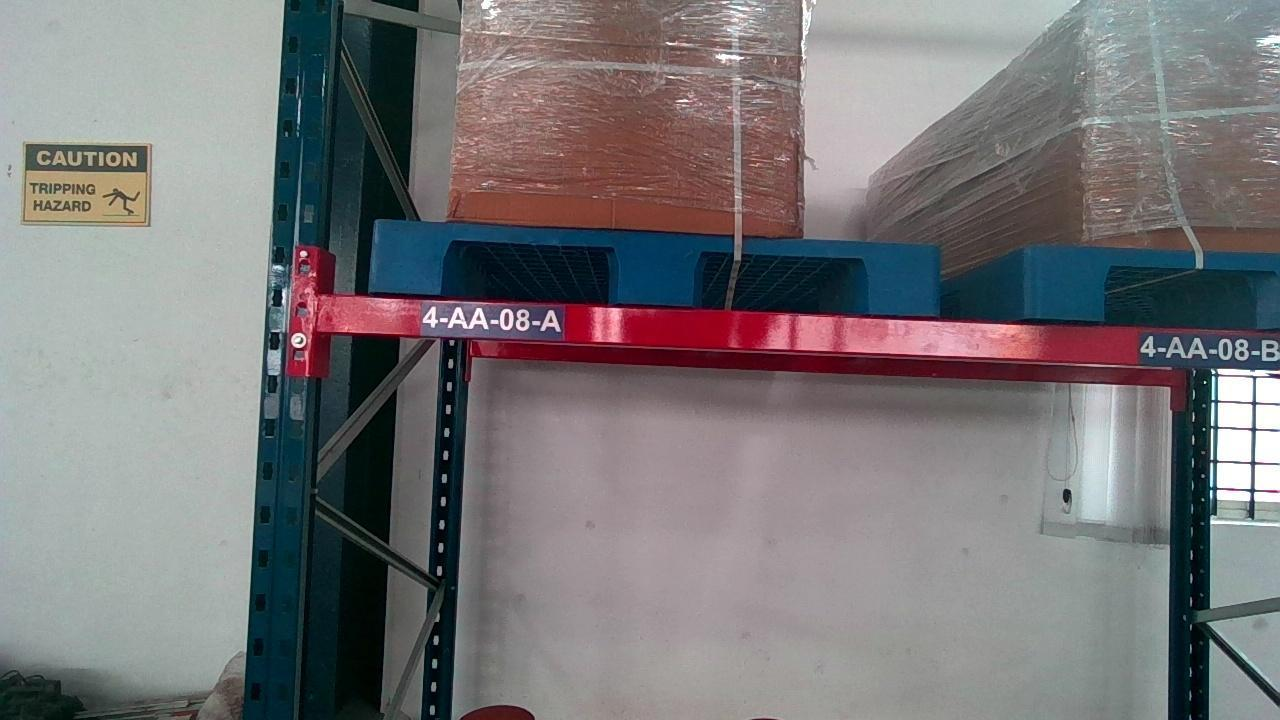h_rack: (323, 302, 1265, 364)
small_pallet: (372, 228, 938, 302), (1028, 246, 1280, 322)
